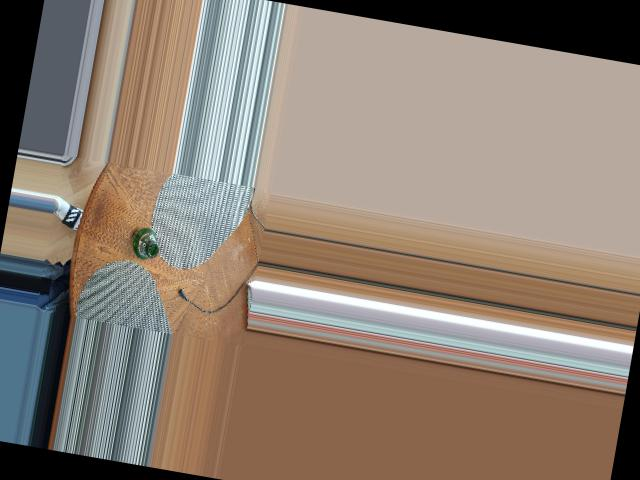beer: (127, 224, 162, 261)
